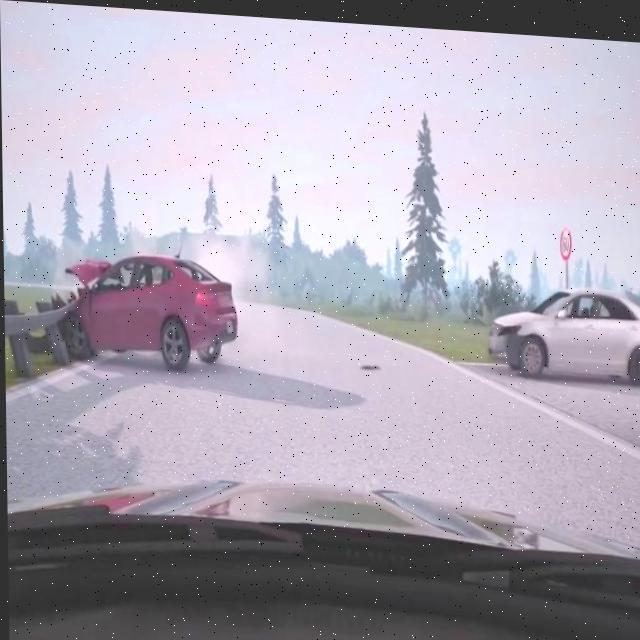normal: (466, 284, 640, 407)
single accident: (21, 253, 270, 404)
